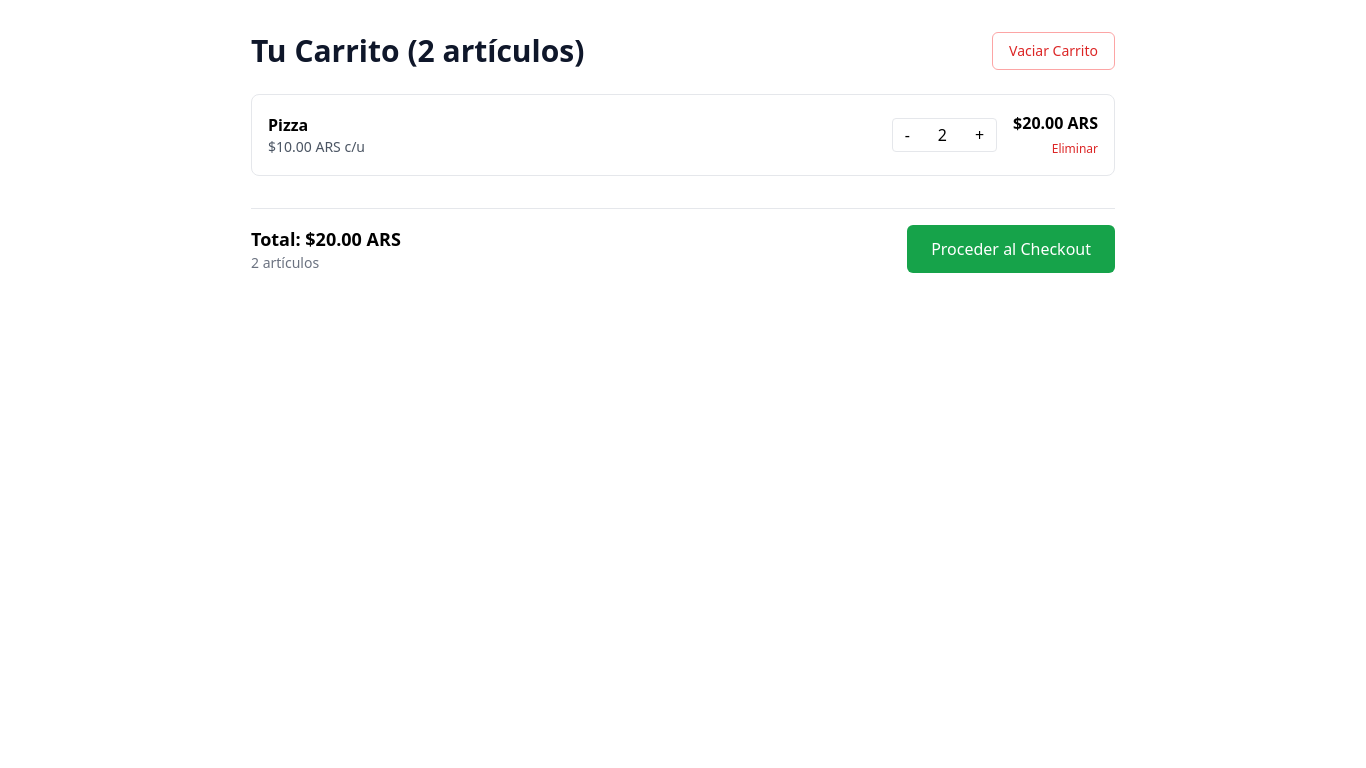
Test: CartPage › shows confirmation modal when Vaciar Carrito is clicked
Click the button "Vaciar Carrito" at (1054, 51), box [992,32,1115,70]
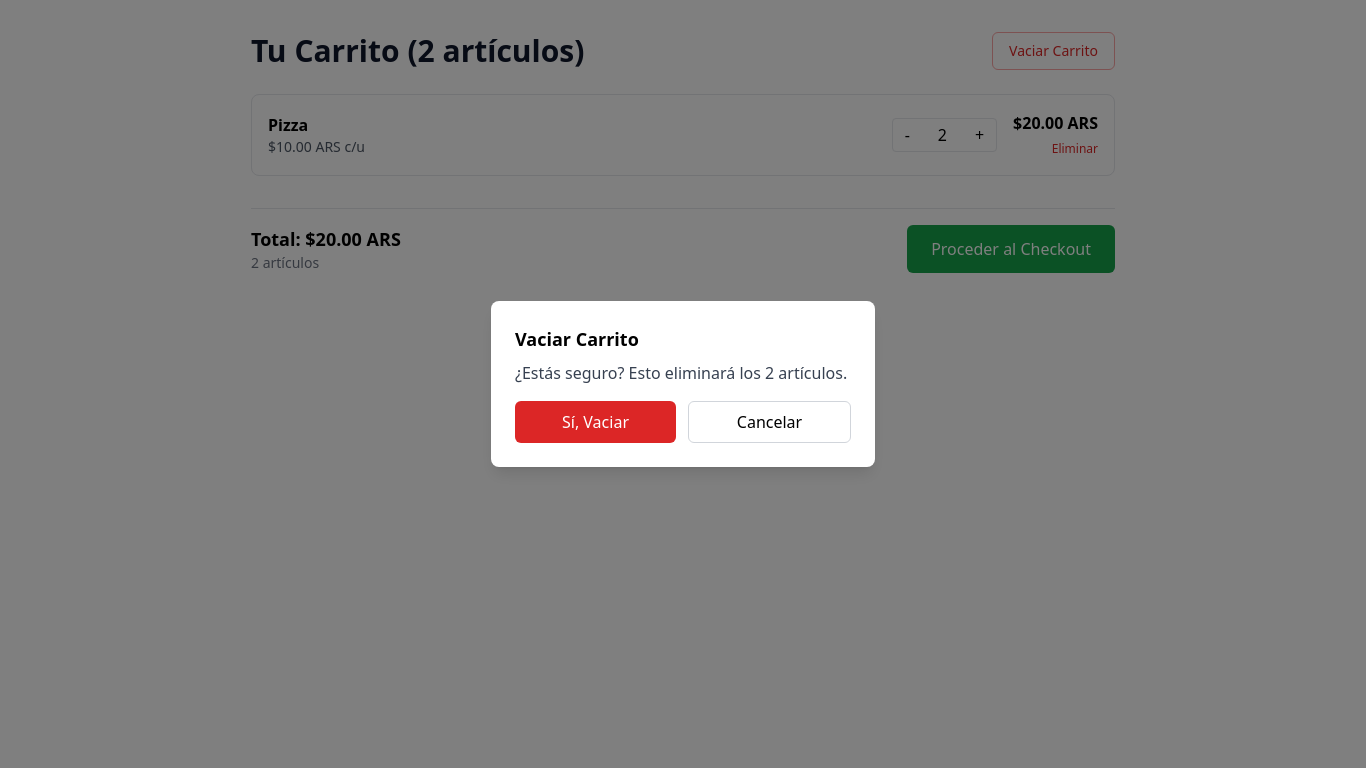
Now the text "¿Estás seguro? Esto eliminará los 2 artículos." is shown, box [515,361,851,385]
Now the button "Sí, Vaciar" is shown, box [515,401,676,443]
Now the button "Cancelar" is shown, box [688,401,851,443]
